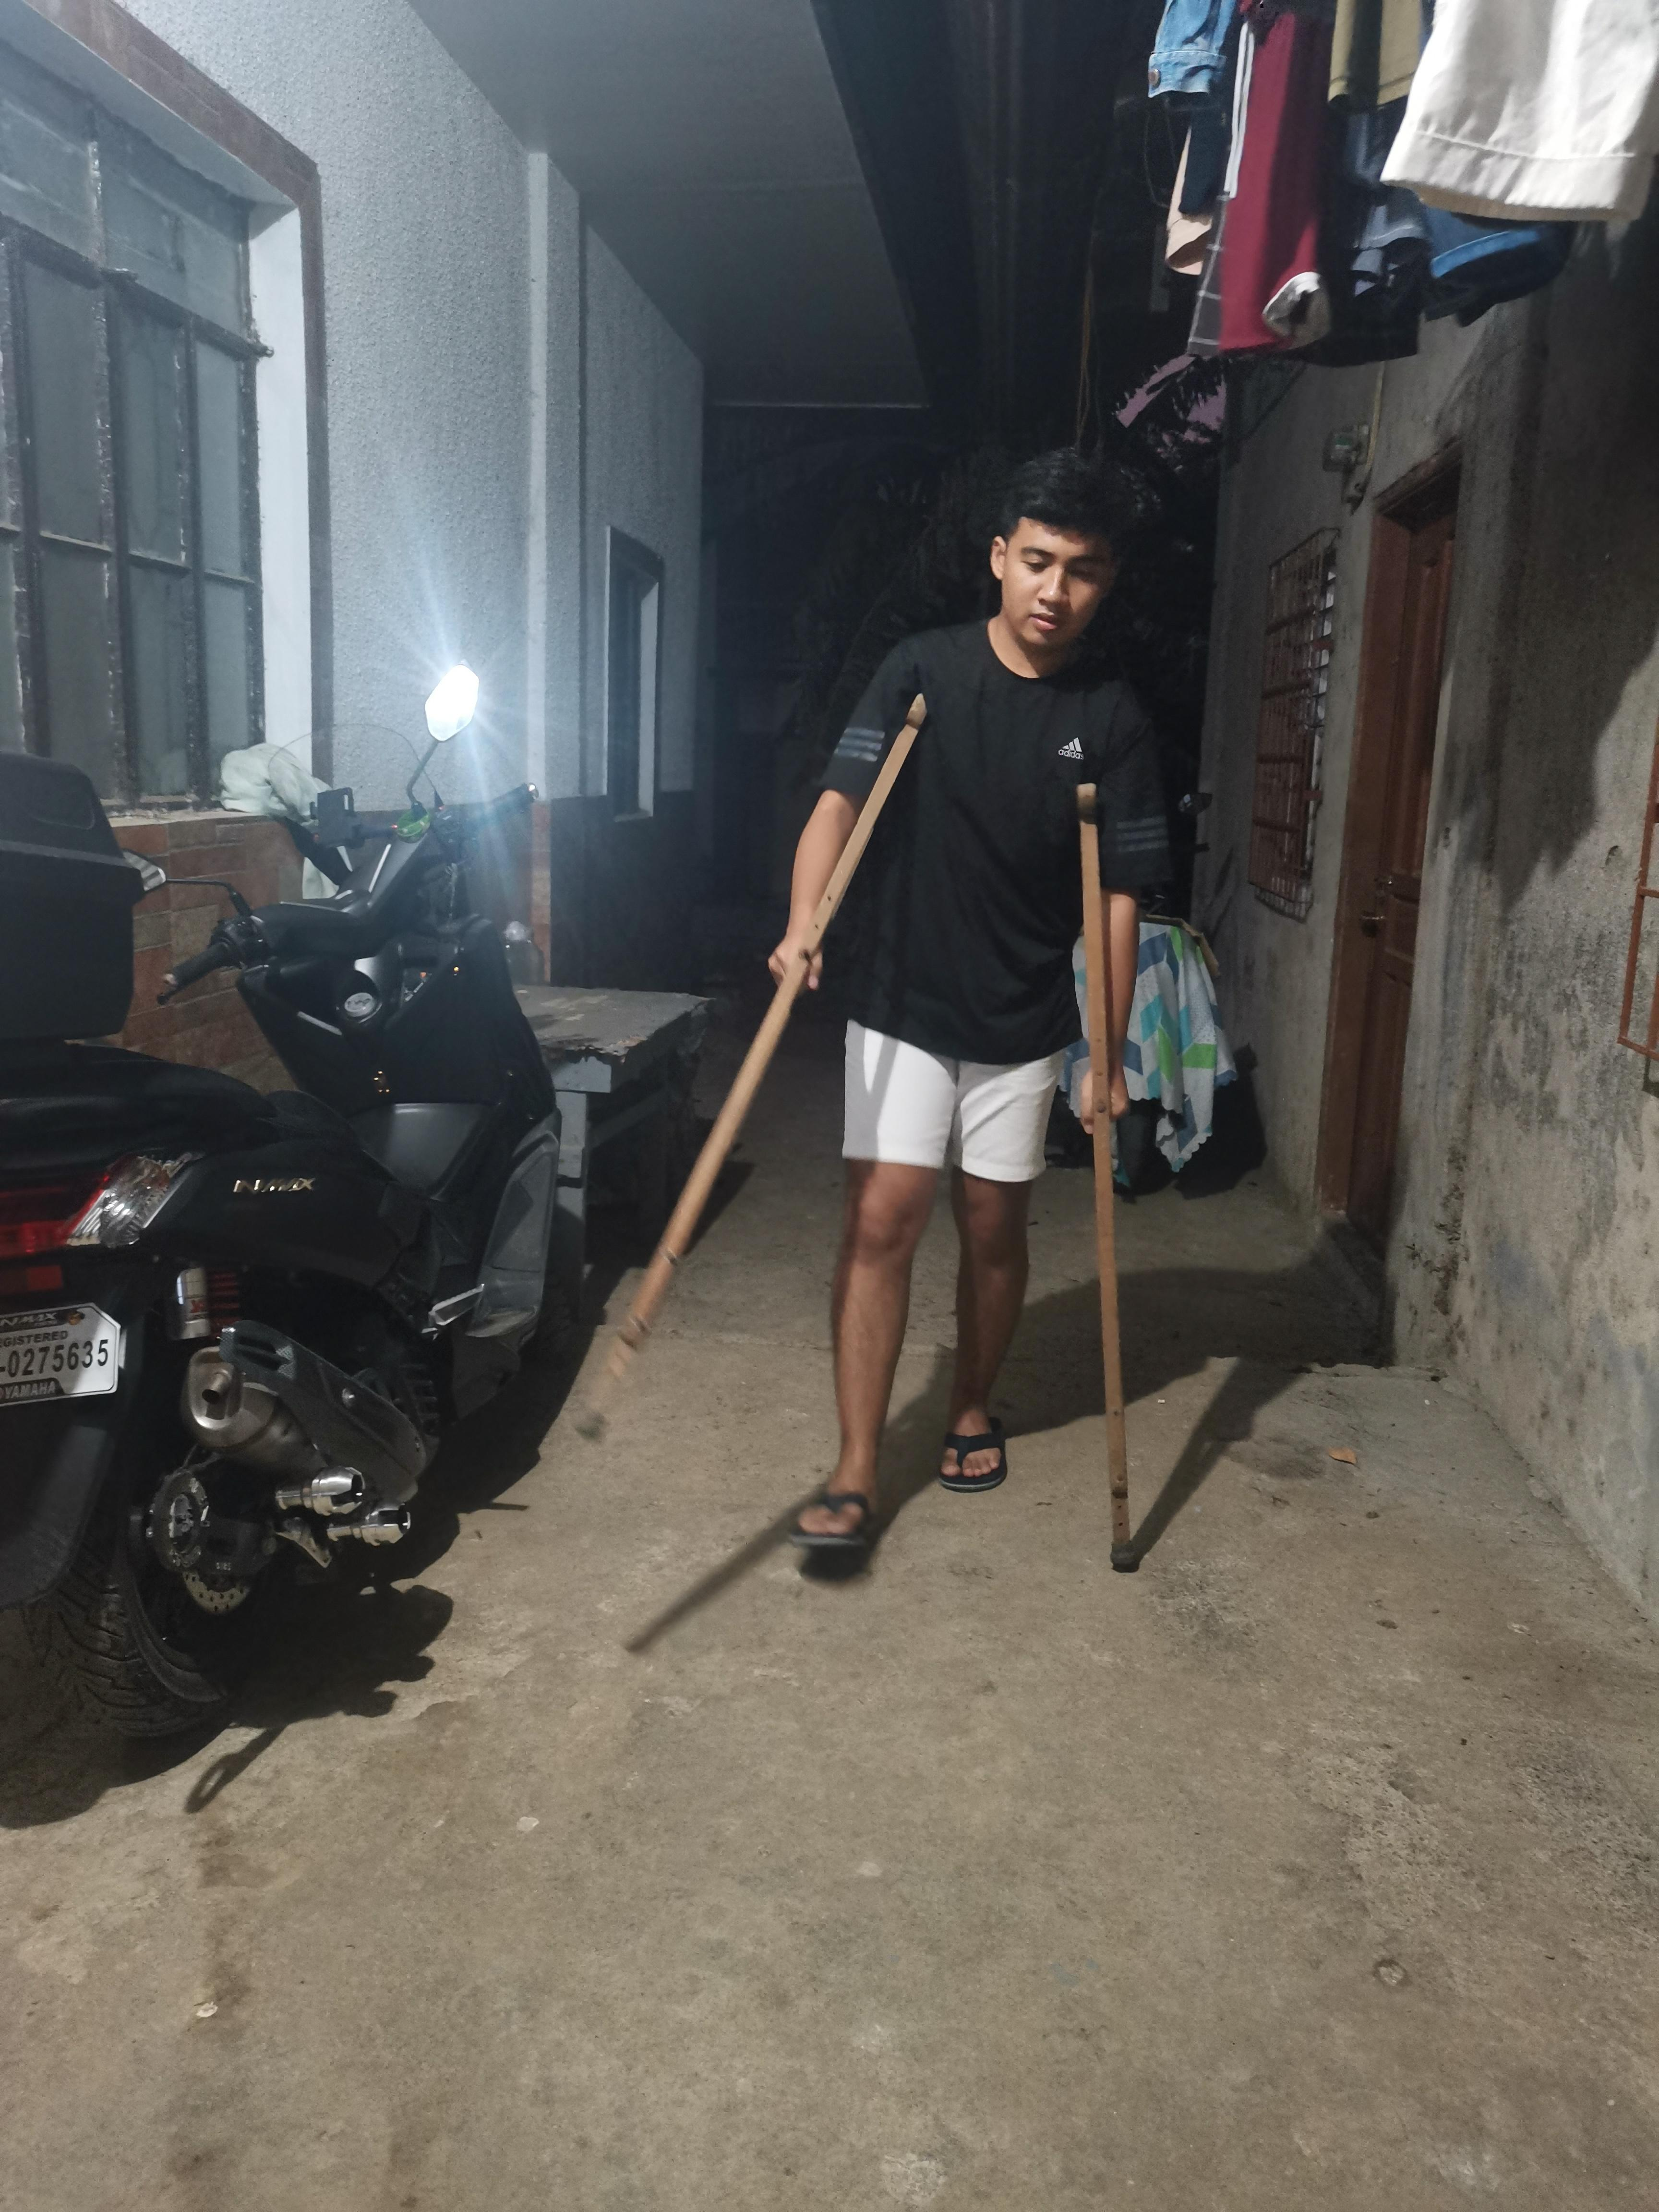crutches: (596, 437, 1178, 1594)
